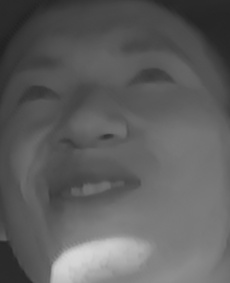eye: (12, 78, 67, 111), (126, 60, 179, 90)
mouth: (40, 156, 141, 218)
